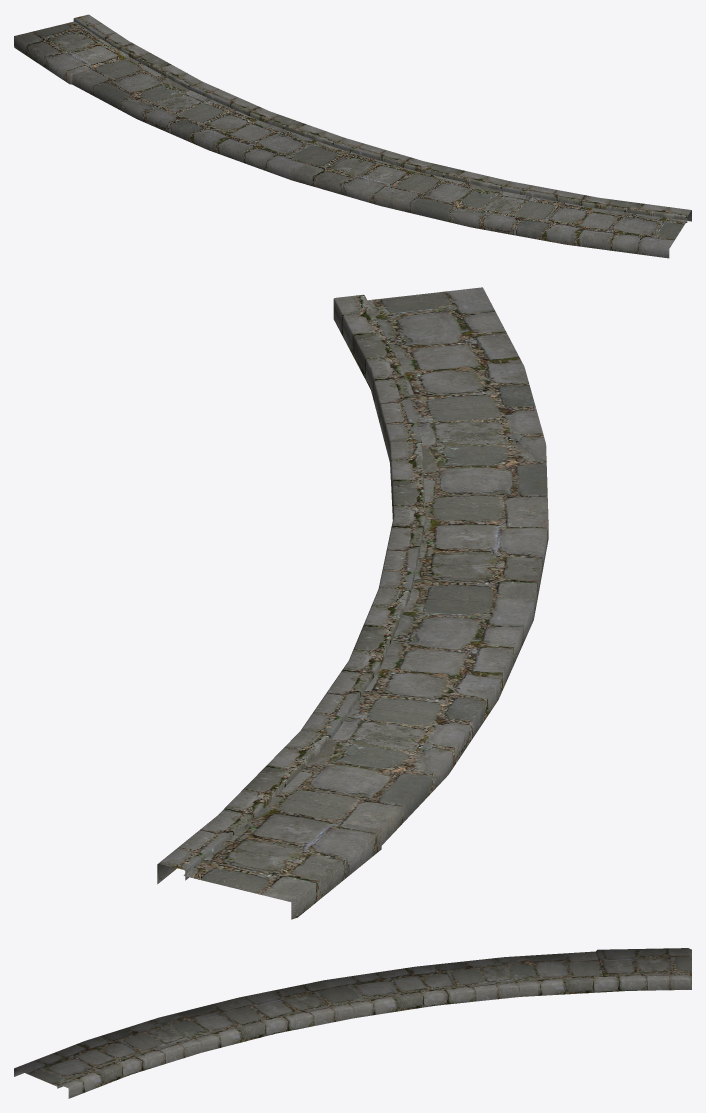
File: CenterRound2.fbx
3 renders of one model, top to bottom at view 1: azimuth 30°, elevation 25°; view 2: azimuth 150°, elevation 25°; view 3: azimuth 270°, elevation 25°, orthographic. The views are drawn at different scales.
Visible parts, largest first — view 1: LV_Campagna_City_MiddleSquare07_SM_KSR; view 2: LV_Campagna_City_MiddleSquare07_SM_KSR; view 3: LV_Campagna_City_MiddleSquare07_SM_KSR.
Boxes of the visible parts, x1,y1,x2,y2 form: LV_Campagna_City_MiddleSquare07_SM_KSR: [14, 14, 691, 258]; LV_Campagna_City_MiddleSquare07_SM_KSR: [157, 287, 548, 919]; LV_Campagna_City_MiddleSquare07_SM_KSR: [14, 948, 691, 1098].
Bounding box in the file's own units: 2.13 × 0.0818 × 4.28.
Materials: 1 (1 with a texture image).
